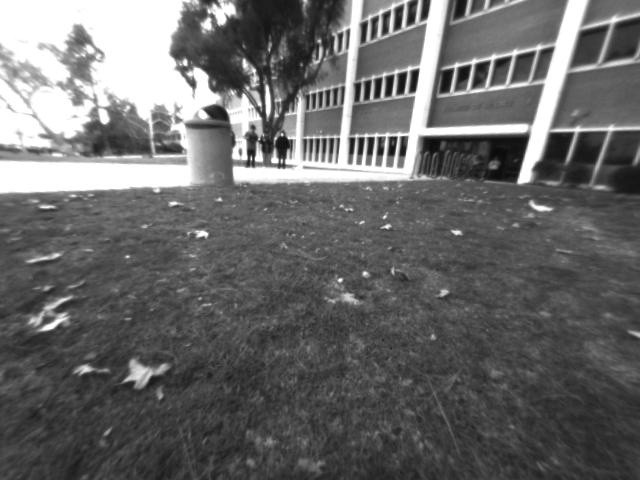trashcan: (178, 96, 240, 192)
